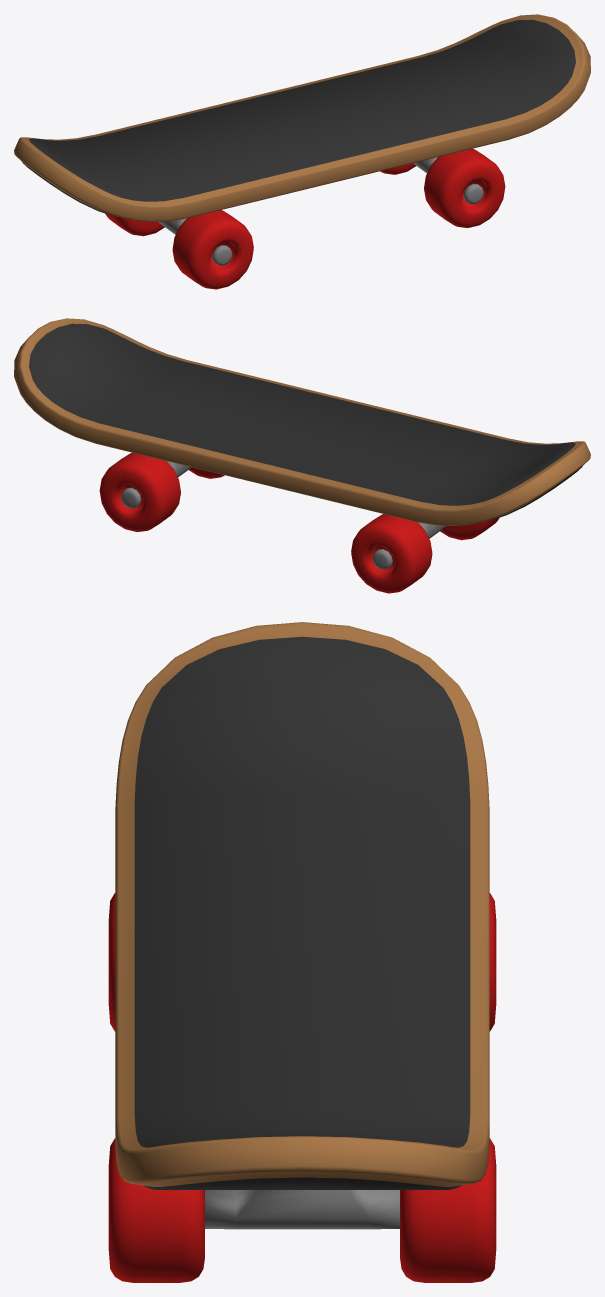
File: skateboard_59e9c369.glb
The picture shows the model from 3 angles, top to bottom: view 1: azimuth 30°, elevation 25°; view 2: azimuth 150°, elevation 25°; view 3: azimuth 270°, elevation 25°; orthographic projection. The views are drawn at different scales.
Visible parts, largest first — view 1: Object_2; view 2: Object_2; view 3: Object_2.
Part boxes in pixels (x1,y1,x2,y2): Object_2: [14, 14, 590, 289]; Object_2: [14, 318, 590, 593]; Object_2: [108, 622, 496, 1282].
Size of the model in its own units: 238 by 56.87 by 73.25.
Materials: 1 (1 with a texture image).
